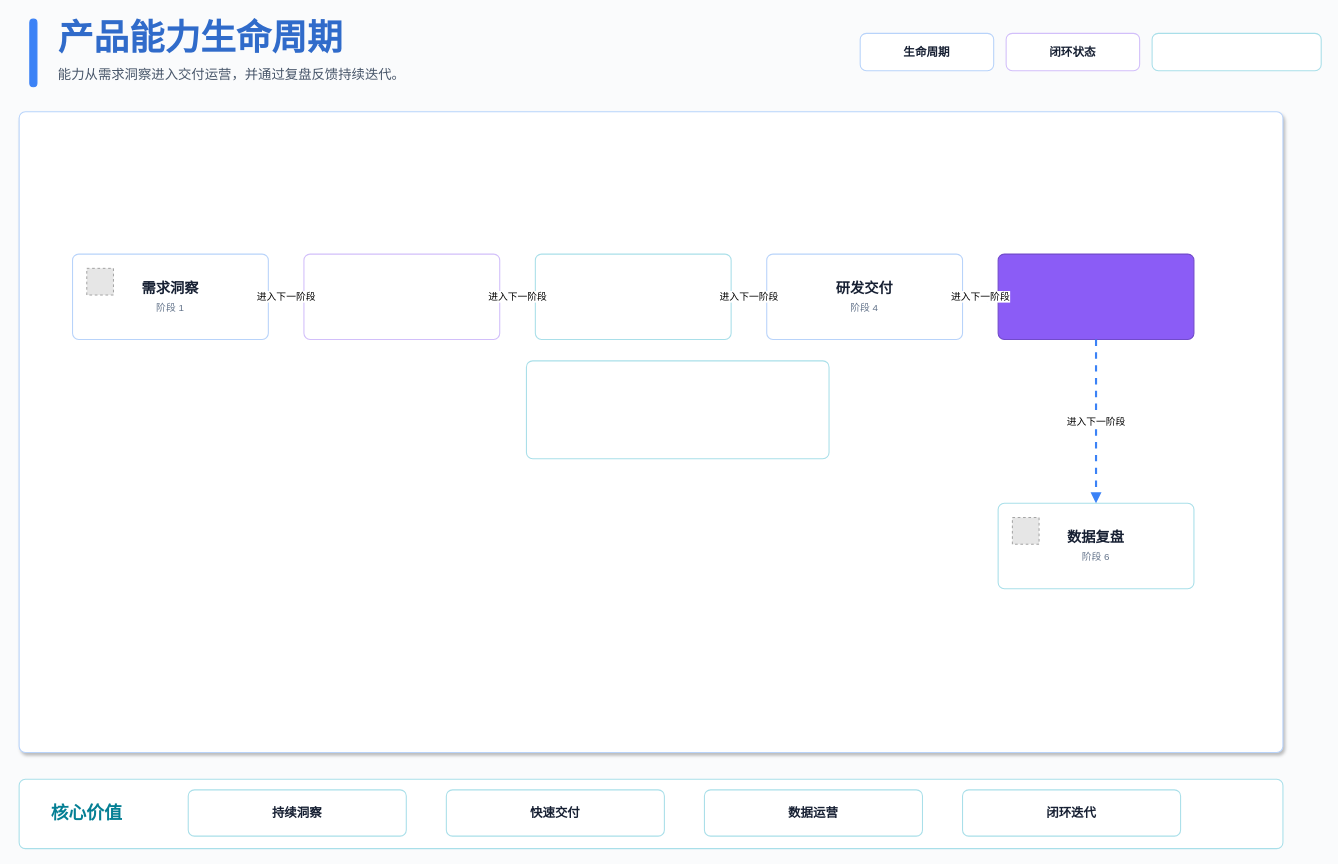
Some shapes in this 1338 by 864 pixel diagram are drawn without their labels. Grey dashed boxes stand in for pictures. The centre of each missing label's shape, as x and y in pixels:
"Vibrant" goes at point (1236, 51).
"上线运营 阶段 5" goes at point (1095, 296).
"产品规划 阶段 2" goes at point (401, 296).
"持续反馈闭环 能力从需求洞察进入交付运营，并通过复盘反馈持续迭代。" goes at point (677, 409).
"方案设计 阶段 3" goes at point (632, 296).
